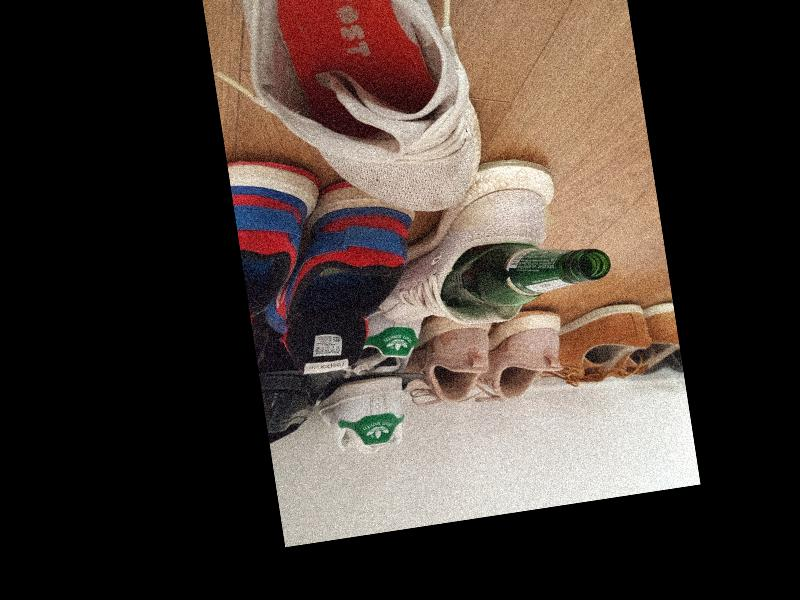Beer: (434, 227, 614, 315)
